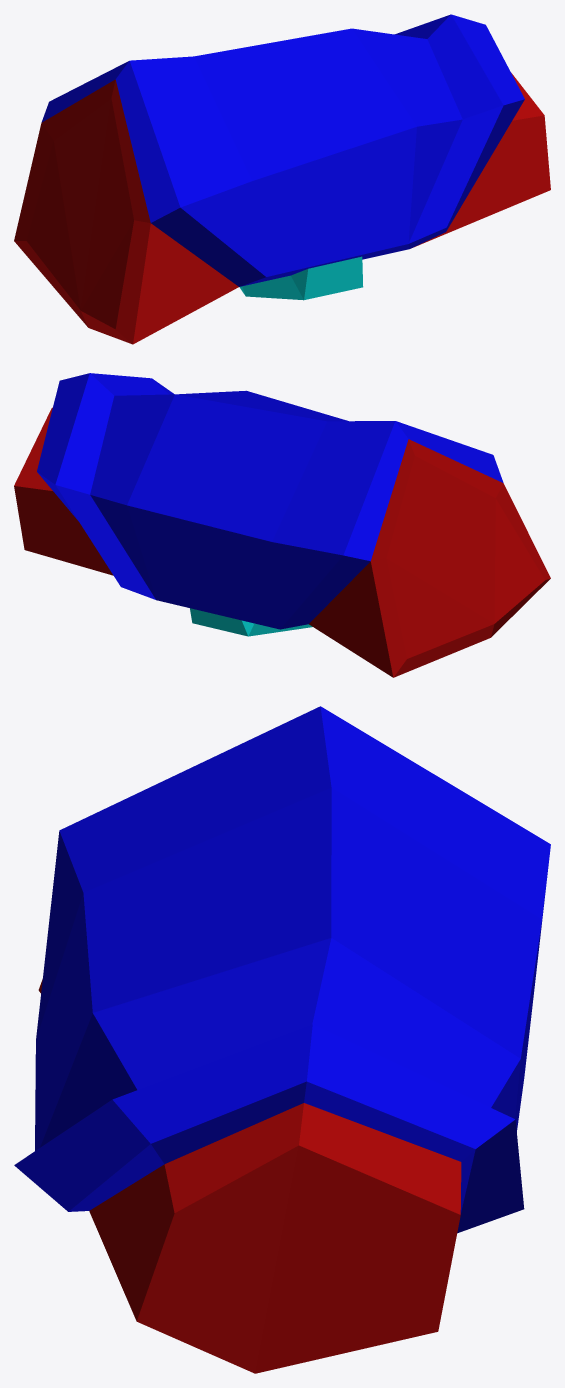
Rendered from Chr_ArmUpperLeft_Male_Static_08.fbx.
3 renders of one model, top to bottom at view 1: azimuth 30°, elevation 25°; view 2: azimuth 150°, elevation 25°; view 3: azimuth 270°, elevation 25°, orthographic. The views are drawn at different scales.
Parts seen in each view (by area): view 1: Chr_ArmUpperLeft_Male_08; view 2: Chr_ArmUpperLeft_Male_08; view 3: Chr_ArmUpperLeft_Male_08.
Part boxes in pixels (x1,y1,x2,y2): Chr_ArmUpperLeft_Male_08: [14, 14, 550, 344]; Chr_ArmUpperLeft_Male_08: [14, 373, 550, 677]; Chr_ArmUpperLeft_Male_08: [14, 706, 550, 1373].
Size of the model in its own units: 32.44 by 16.99 by 19.27.
